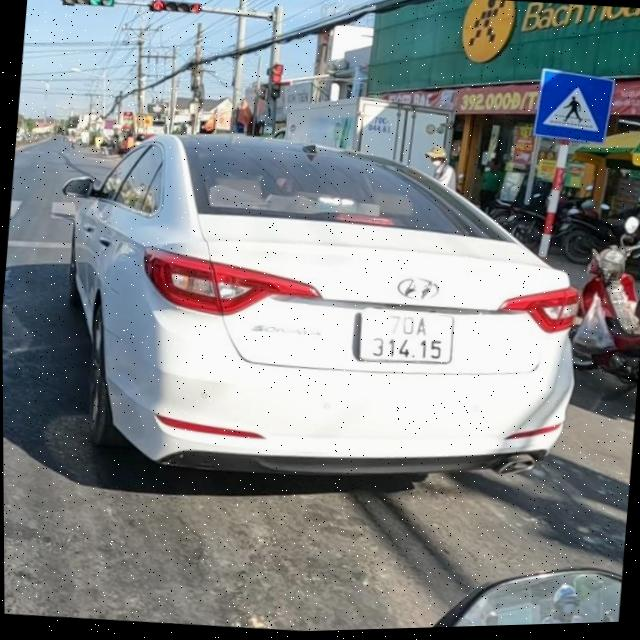car: (39, 107, 600, 525)
motorcycle: (569, 209, 640, 389)
plate: (343, 286, 465, 378)
